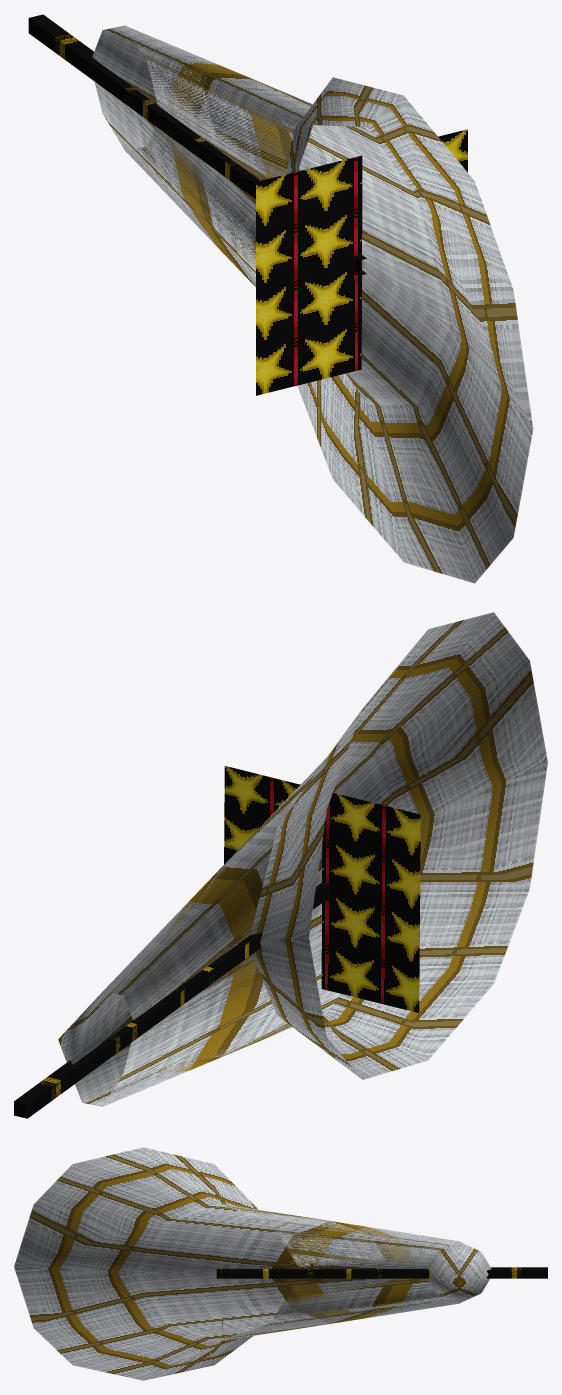
The model's file is 00_03_stick.gltf.
The picture shows the model from 3 angles, top to bottom: view 1: azimuth 30°, elevation 25°; view 2: azimuth 150°, elevation 25°; view 3: azimuth 270°, elevation 25°; orthographic projection. The views are drawn at different scales.
Visible parts, largest first — view 1: 00_03_stick; view 2: 00_03_stick; view 3: 00_03_stick.
Part boxes in pixels (box(x1,y1,x2,y2)): 00_03_stick: box(28, 14, 533, 583); 00_03_stick: box(14, 612, 547, 1118); 00_03_stick: box(14, 1147, 547, 1380).
Bounding box in the file's own units: 0.3633 × 0.761 × 1.58.
Materials: 3 (3 with a texture image).
